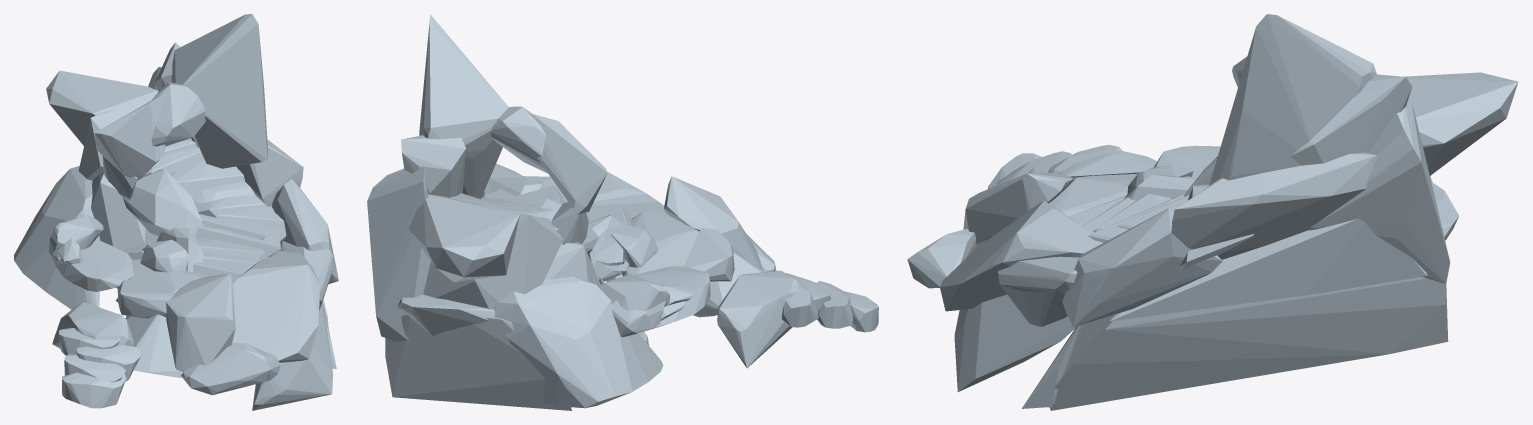
Rendered from Mountain.fbx.
3 renders of one model, left to right at view 1: azimuth 30°, elevation 25°; view 2: azimuth 150°, elevation 25°; view 3: azimuth 270°, elevation 25°, orthographic. The views are drawn at different scales.
Parts seen in each view (by area): view 1: Mnt; view 2: Mnt; view 3: Mnt.
Part boxes in pixels (<box>): Mnt: <box>14,14,338,410</box>; Mnt: <box>367,14,878,410</box>; Mnt: <box>907,14,1518,410</box>.
Bounding box in the file's own units: 2483 × 2341 × 3224.
